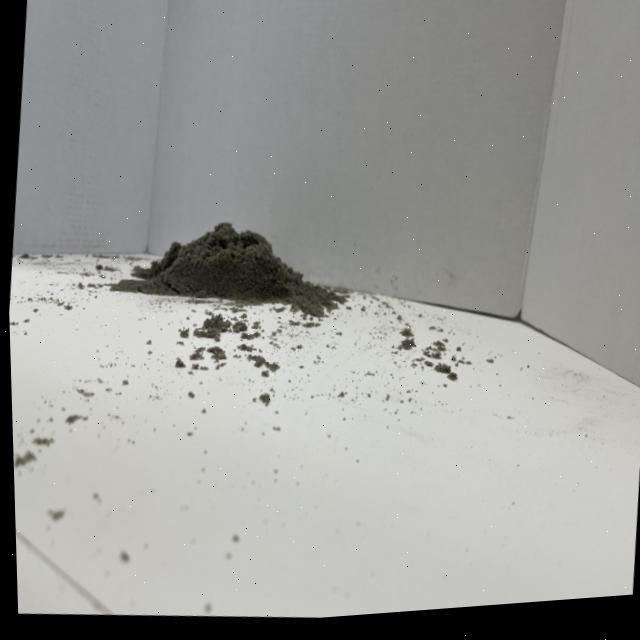sand: (122, 170, 351, 347)
